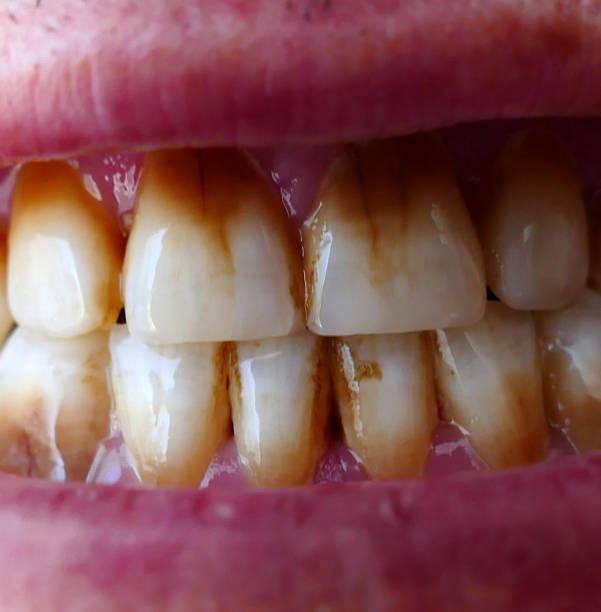Calculus: (282, 152, 500, 352), (115, 140, 303, 335), (97, 323, 247, 482), (423, 312, 562, 472), (478, 165, 595, 324), (7, 167, 119, 331), (335, 335, 452, 488), (223, 323, 333, 479)
